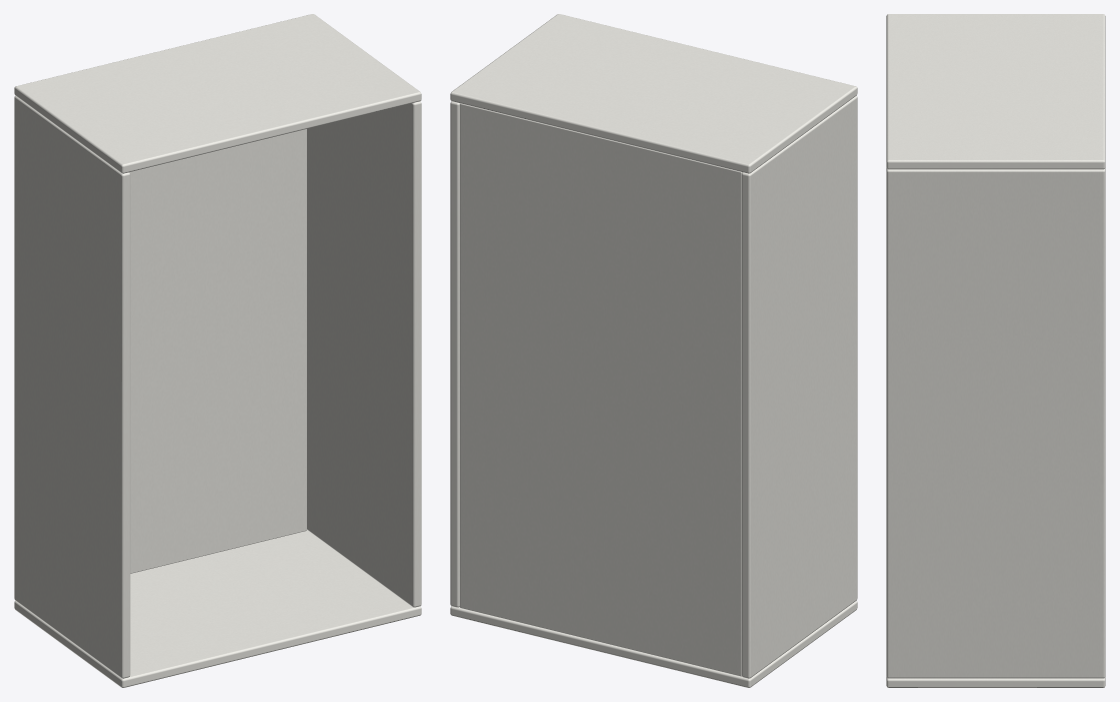
File: metod-wall-tall-mobile.glb
3 views of the same model, side by side, from view 1: azimuth 30°, elevation 25°; view 2: azimuth 150°, elevation 25°; view 3: azimuth 270°, elevation 25° (orthographic).
Visible parts, largest first — view 1: METOD Wall cabinet, 100 cm; view 2: METOD Wall cabinet, 100 cm; view 3: METOD Wall cabinet, 100 cm.
Boxes of the visible parts, x1,y1,x2,y2 form: METOD Wall cabinet, 100 cm: (14, 14, 421, 687); METOD Wall cabinet, 100 cm: (450, 14, 857, 687); METOD Wall cabinet, 100 cm: (886, 14, 1105, 687).
Size of the model in its own units: 0.6 by 1 by 0.376.
Materials: 1 (1 with a texture image).
